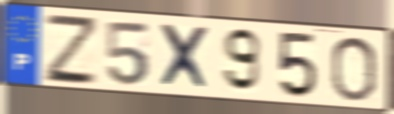5: (103, 19, 152, 88), (276, 29, 319, 100)
9: (219, 26, 263, 96)
O: (328, 35, 379, 104)
X: (157, 22, 213, 93)
Z: (43, 11, 100, 87)
